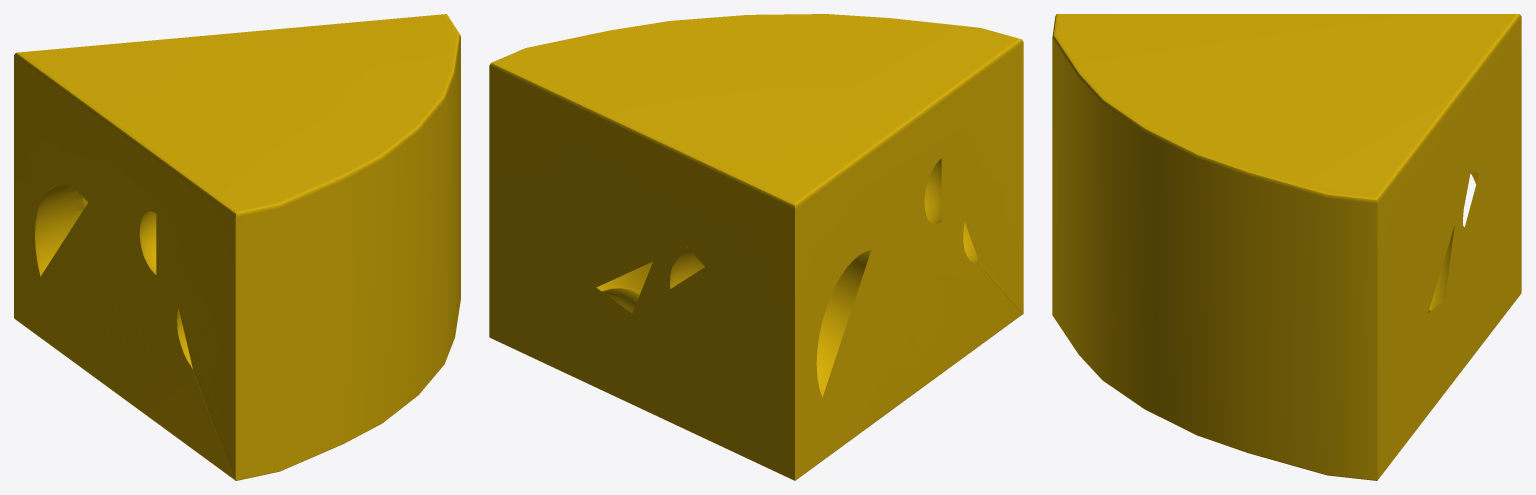
Rendered from cheese.fbx.
3 renders of one model, left to right at view 1: azimuth 30°, elevation 25°; view 2: azimuth 150°, elevation 25°; view 3: azimuth 270°, elevation 25°, orthographic. The views are drawn at different scales.
Parts seen in each view (by area): view 1: pCylinder6; view 2: pCylinder6; view 3: pCylinder6.
Boxes of the visible parts, left/top/right/bottom form: pCylinder6: left=14, top=14, right=460, bottom=480; pCylinder6: left=489, top=14, right=1023, bottom=480; pCylinder6: left=1052, top=14, right=1521, bottom=480.
Size of the model in its own units: 116 by 80.92 by 122.
